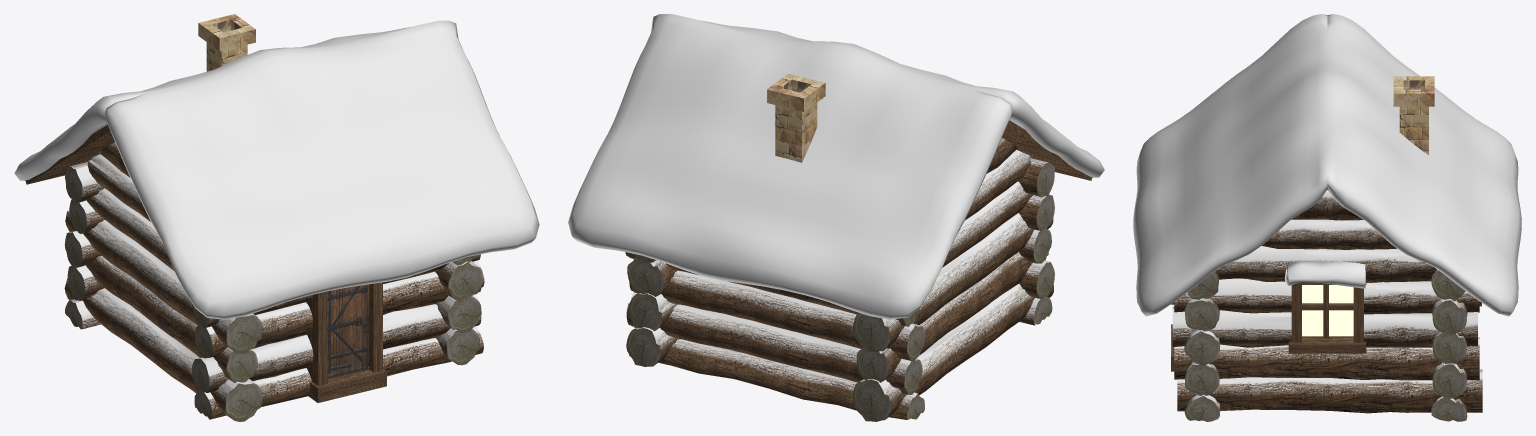
The model's file is hut.glb.
The picture shows the model from 3 angles, left to right: view 1: azimuth 30°, elevation 25°; view 2: azimuth 150°, elevation 25°; view 3: azimuth 270°, elevation 25°; orthographic projection. The views are drawn at different scales.
Visible parts, largest first — view 1: roofSnow_35, log011_20, log003_12, log005_14, log002_11, doorFrame_8, log008_17, log010_19, door_7, chimney_6, log016_25, log020_29 (+10 smaller); view 2: roofSnow_35, log006_15, log009_18, log001_10, log011_20, log003_12, log008_17, chimney_6, log016_25, log020_29, log012_21, roof_34 (+8 smaller); view 3: roofSnow_35, log012_21, log007_16, log004_13, log015_24, log019_28, windowFrame_36, log022_31, chimney_6, windowGlass_37, windowSnow_38, log014_23 (+10 smaller).
Boxes of the visible parts, x1,y1,x2,y2 form: roofSnow_35: (14, 20, 539, 319); log011_20: (64, 278, 263, 421); log003_12: (65, 210, 262, 353); log005_14: (192, 294, 481, 392); log002_11: (195, 260, 484, 358); doorFrame_8: (306, 282, 386, 402); log008_17: (86, 256, 257, 382); log010_19: (194, 326, 483, 419); door_7: (327, 284, 369, 379); chimney_6: (198, 14, 255, 71); log016_25: (86, 188, 174, 270); log020_29: (87, 154, 150, 221); roofSnow_35: (568, 14, 1104, 319); log006_15: (626, 292, 922, 394); log009_18: (629, 270, 925, 361); log001_10: (629, 339, 924, 419); log011_20: (852, 284, 1053, 421); log003_12: (852, 213, 1053, 352); log008_17: (856, 252, 1048, 382); chimney_6: (767, 74, 825, 162); log016_25: (942, 181, 1032, 267); log020_29: (965, 150, 1030, 220); log012_21: (626, 327, 681, 366); roof_34: (1002, 120, 1092, 180); roofSnow_35: (1133, 14, 1521, 316); log012_21: (1177, 369, 1482, 413); log007_16: (1174, 337, 1479, 380); log004_13: (1172, 306, 1477, 347); log015_24: (1174, 278, 1479, 314); log019_28: (1215, 246, 1436, 282); windowFrame_36: (1288, 273, 1366, 353); log022_31: (1262, 219, 1396, 249); chimney_6: (1393, 76, 1434, 154); windowGlass_37: (1302, 285, 1353, 336); windowSnow_38: (1285, 261, 1365, 288); log014_23: (1432, 298, 1467, 336).
Size of the model in its own units: 8.46 by 6.55 by 8.23.
Materials: 7 (5 with a texture image).
